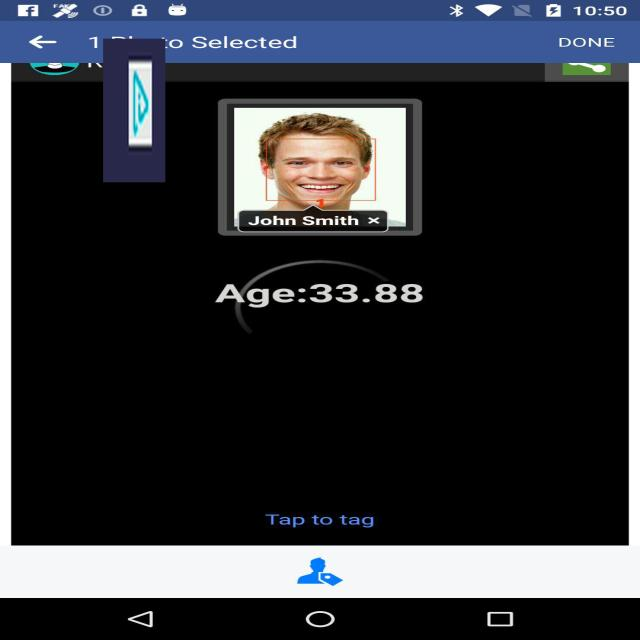sneaking: (103, 39, 165, 182)
